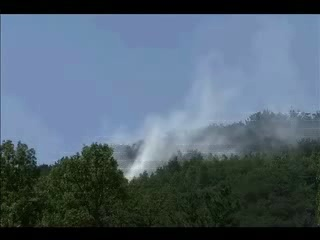smoke: (186, 32, 318, 159), (116, 103, 185, 183)
